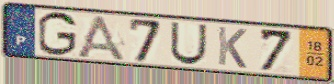7: (258, 27, 295, 73), (128, 16, 163, 64)
A: (73, 14, 129, 64)
G: (36, 10, 79, 58)
K: (216, 25, 249, 71)
U: (168, 20, 210, 66)
